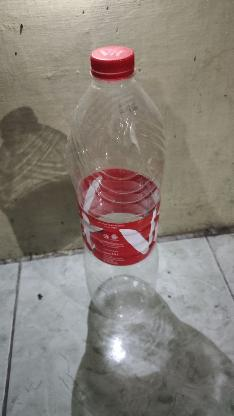Plastic Bottle: (65, 45, 167, 305)
